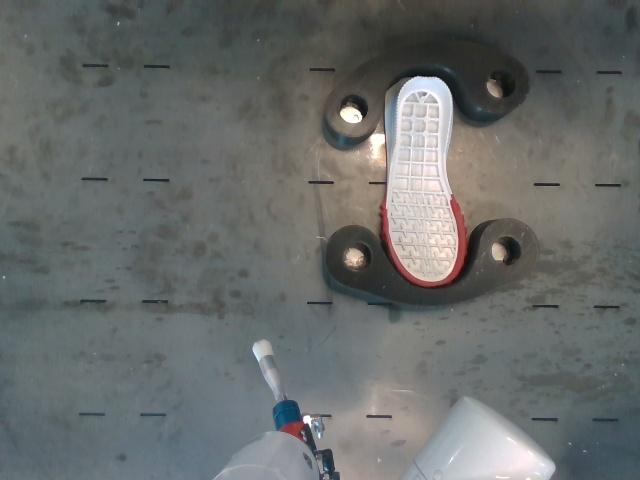shoes: (387, 76, 465, 287)
